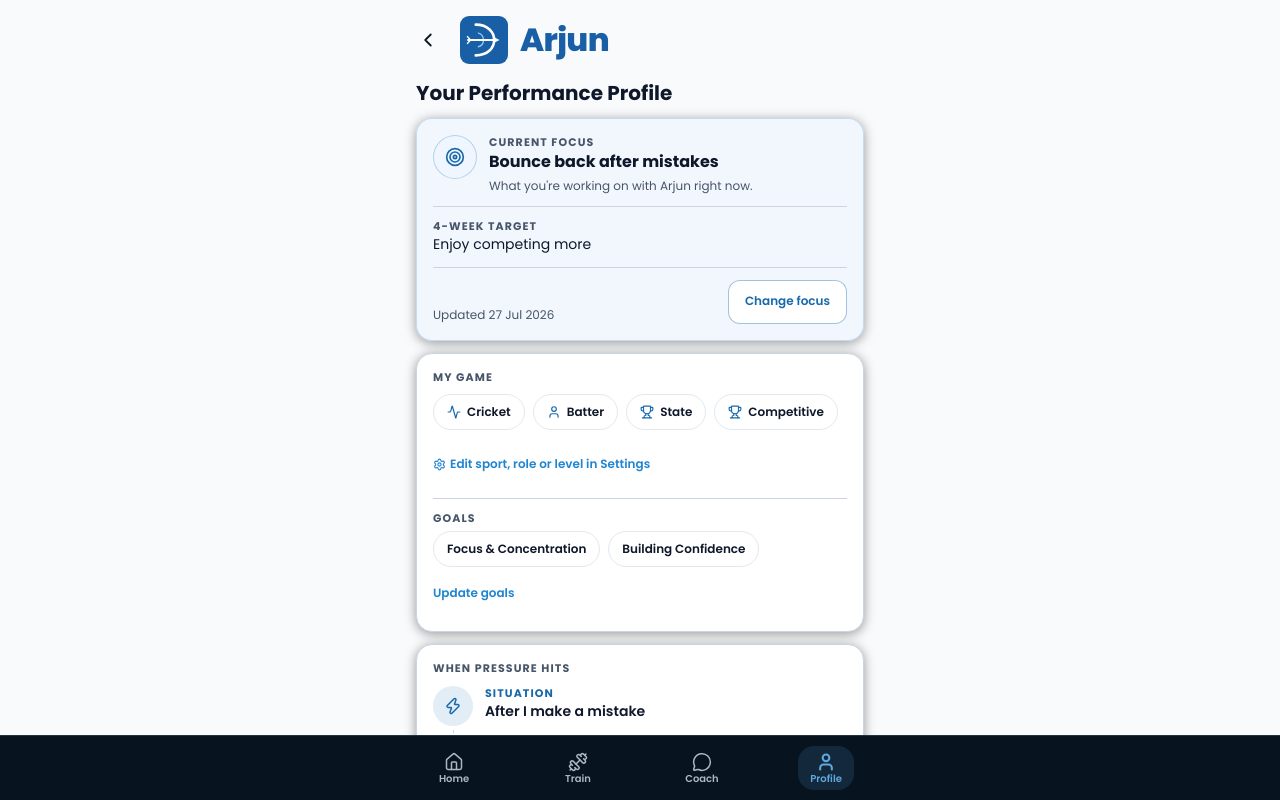
Test case: Change focus is present in saved mode and opens the selector
Click the button "Change focus".
click(787, 302)  # box 728,280 -> 847,324
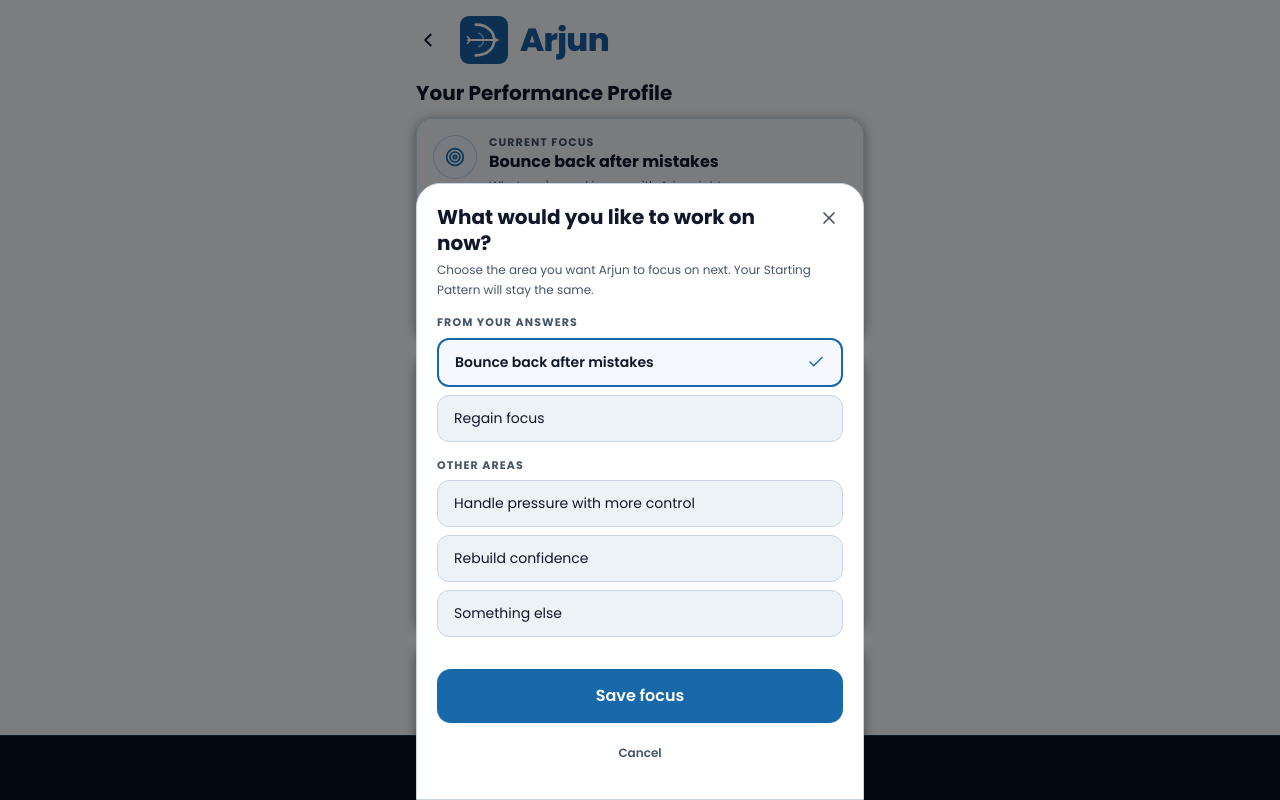
Check: the dialog is shown, box 416,183 -> 864,799
Check: the heading "What would you like to work on now?" is shown, box 437,204 -> 795,256
